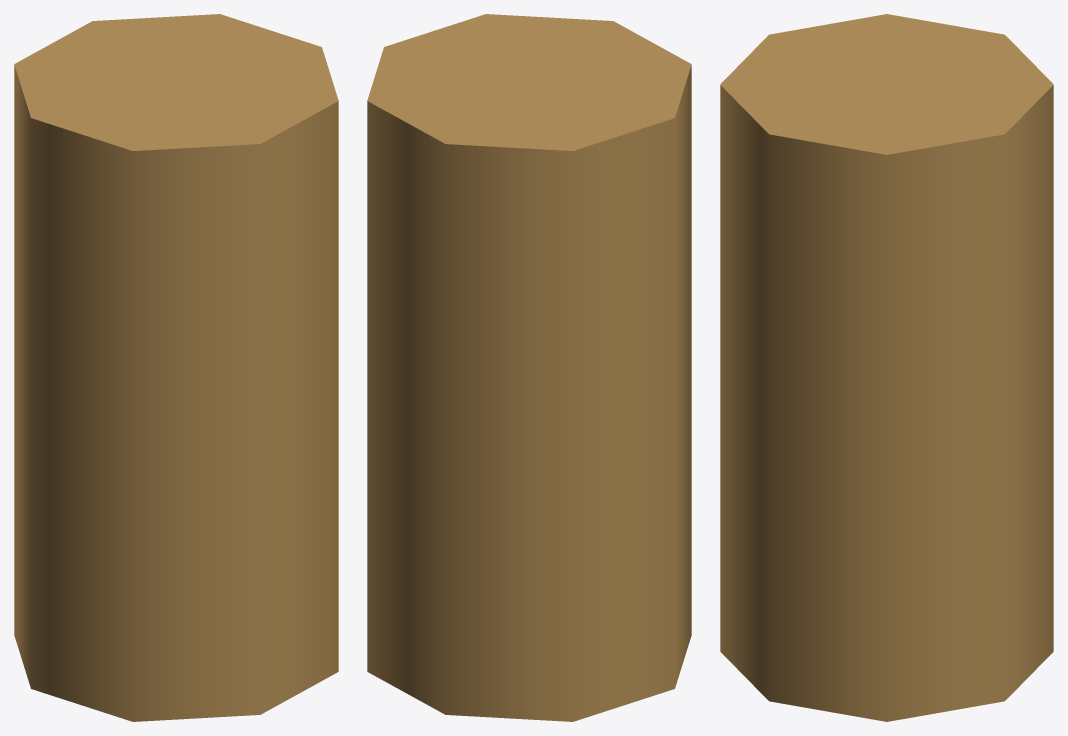
The model's file is barrel_01.glb.
3 views of the same model, side by side, from view 1: azimuth 30°, elevation 25°; view 2: azimuth 150°, elevation 25°; view 3: azimuth 270°, elevation 25° (orthographic).
Parts seen in each view (by area): view 1: barrel; view 2: barrel; view 3: barrel.
Part boxes in pixels (x1,y1,x2,y2): barrel: [14, 14, 338, 721]; barrel: [367, 14, 691, 721]; barrel: [720, 14, 1053, 721].
Bounding box in the file's own units: 0.8 × 1.5 × 0.8.
